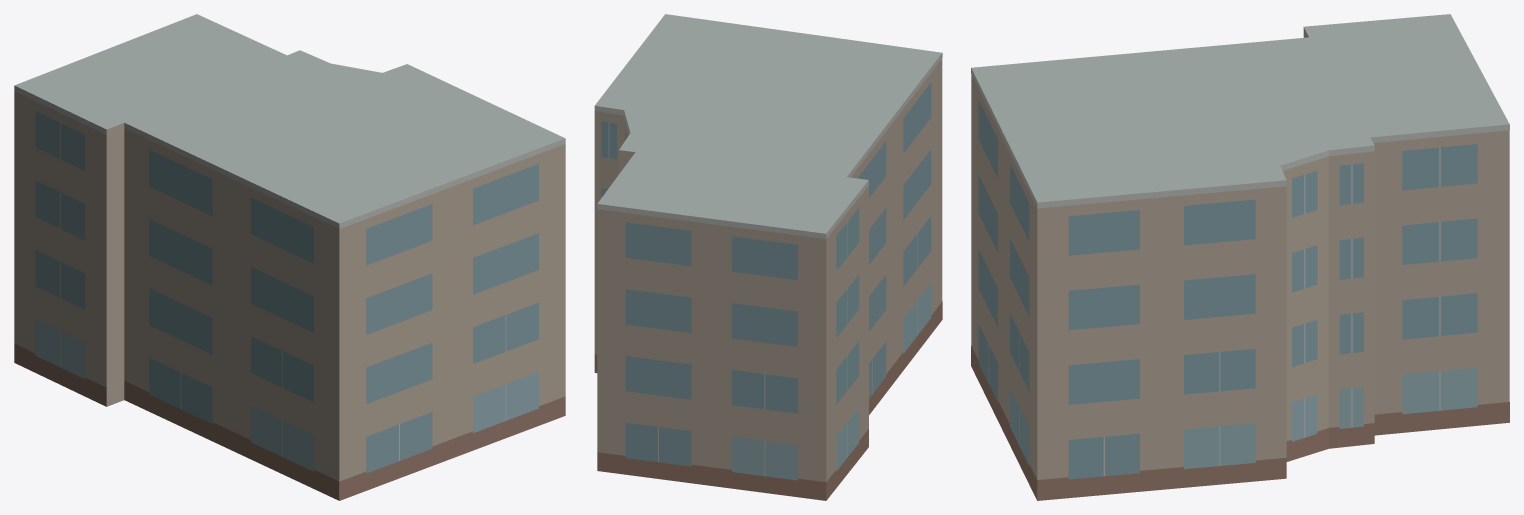
File: survey-upis-32497353.glb
The picture shows the model from 3 angles, left to right: view 1: azimuth 30°, elevation 25°; view 2: azimuth 150°, elevation 25°; view 3: azimuth 270°, elevation 25°; orthographic projection. The views are drawn at different scales.
Visible parts, largest first — view 1: survey-upis-32497353.tmp; view 2: survey-upis-32497353.tmp; view 3: survey-upis-32497353.tmp.
Part boxes in pixels (<box>): survey-upis-32497353.tmp: <box>14,14,565,500</box>; survey-upis-32497353.tmp: <box>594,14,942,500</box>; survey-upis-32497353.tmp: <box>971,14,1509,500</box>.
Size of the model in its own units: 16.62 by 12.25 by 20.06.
